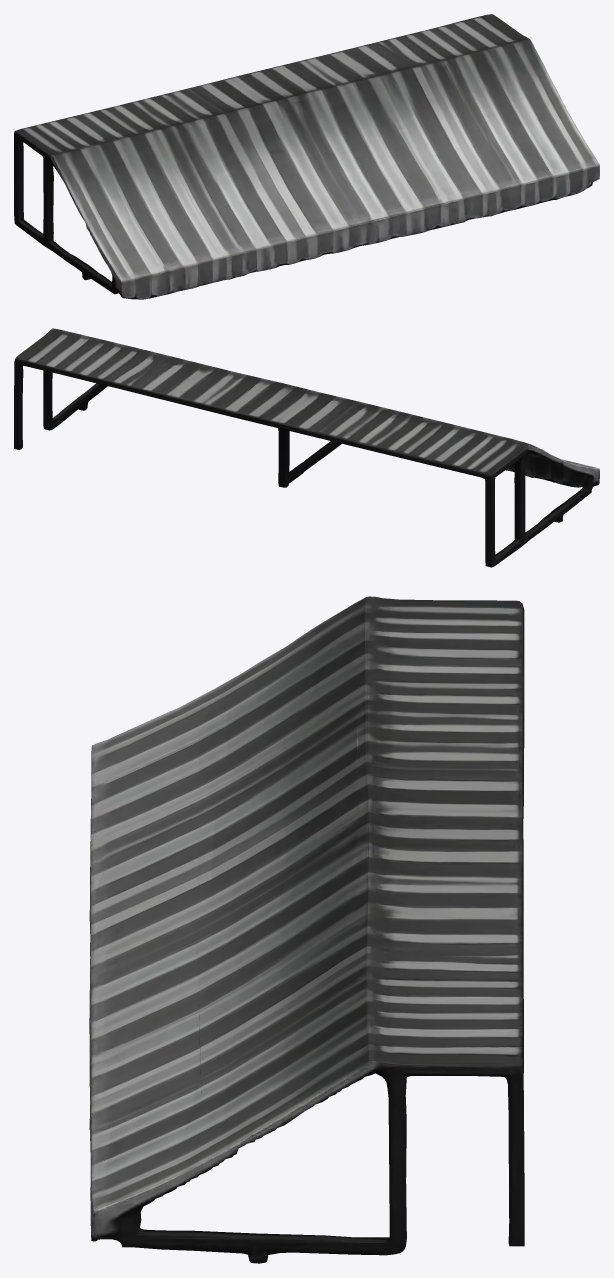
File: storefront_small_awning.glb
The picture shows the model from 3 angles, top to bottom: view 1: azimuth 30°, elevation 25°; view 2: azimuth 150°, elevation 25°; view 3: azimuth 270°, elevation 25°; orthographic projection. The views are drawn at different scales.
Parts seen in each view (by area): view 1: geometry_0; view 2: geometry_0; view 3: geometry_0.
Boxes of the visible parts, box(x1,y1,x2,y2) form: geometry_0: box(14, 14, 599, 299); geometry_0: box(14, 328, 599, 567); geometry_0: box(89, 596, 524, 1263).
Bounding box in the file's own units: 1 × 0.2033 × 0.3943.
1 material, 1 textured.
